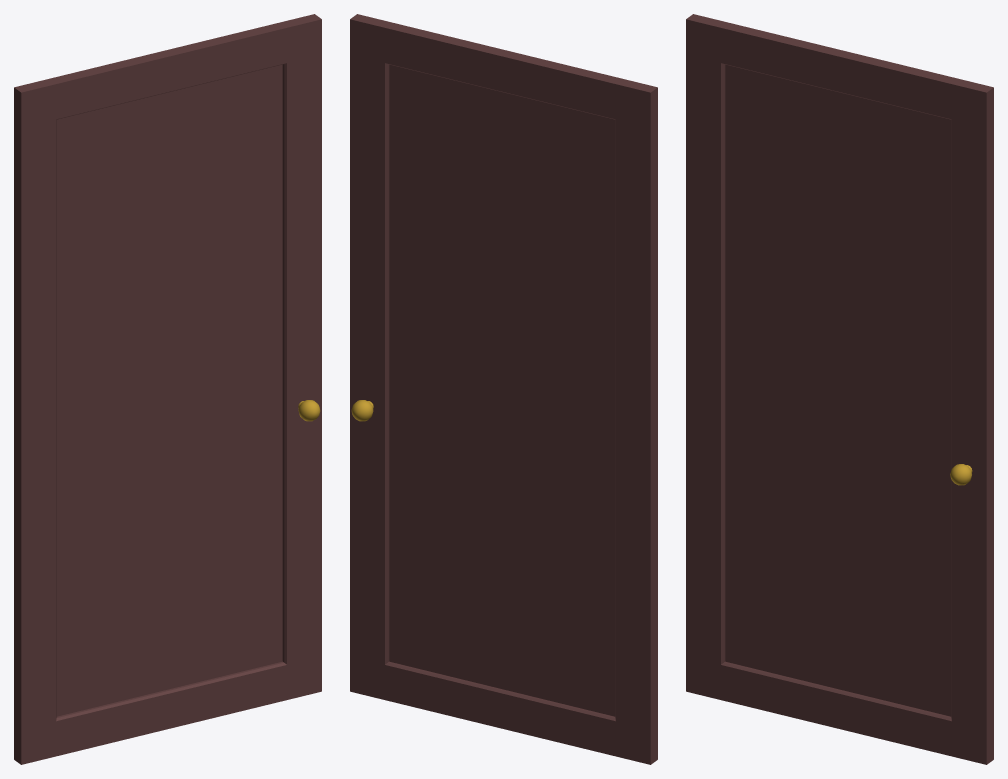
Rendered from door2.obj.
3 renders of one model, left to right at view 1: azimuth 30°, elevation 25°; view 2: azimuth 150°, elevation 25°; view 3: azimuth 330°, elevation 25°, orthographic.
Visible parts, largest first — view 1: door2; view 2: door2; view 3: door2.
Boxes of the visible parts, <box> form: door2: <box>14,14,321,764</box>; door2: <box>350,14,657,764</box>; door2: <box>686,14,993,764</box>.
Size of the model in its own units: 1.11 by 2.37 by 0.2004.
